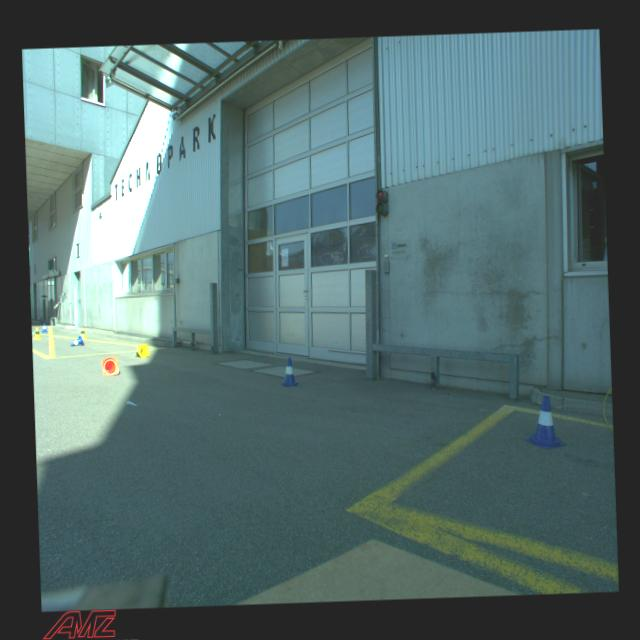blue_cone: (523, 394, 566, 449), (279, 357, 299, 387), (70, 336, 84, 346), (41, 323, 48, 332)
orange_cone: (101, 357, 119, 376)
yellow_cone: (134, 343, 149, 357), (33, 327, 42, 339), (79, 326, 86, 338)
